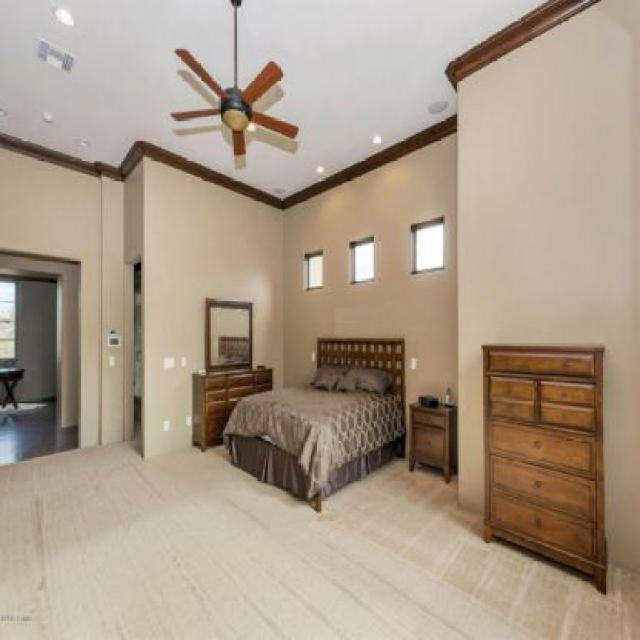Floor: (0, 397, 639, 638)
